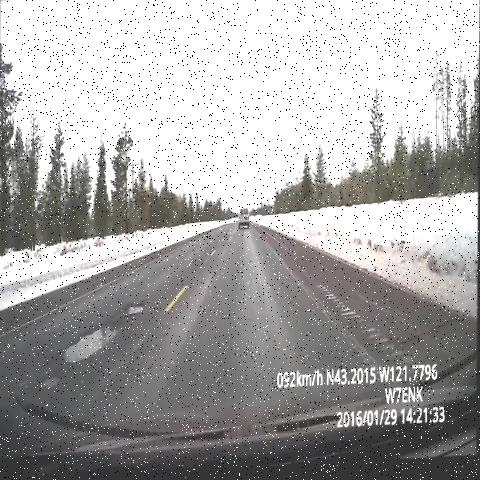pothole: (55, 316, 124, 374), (26, 368, 68, 403), (117, 295, 149, 324)
